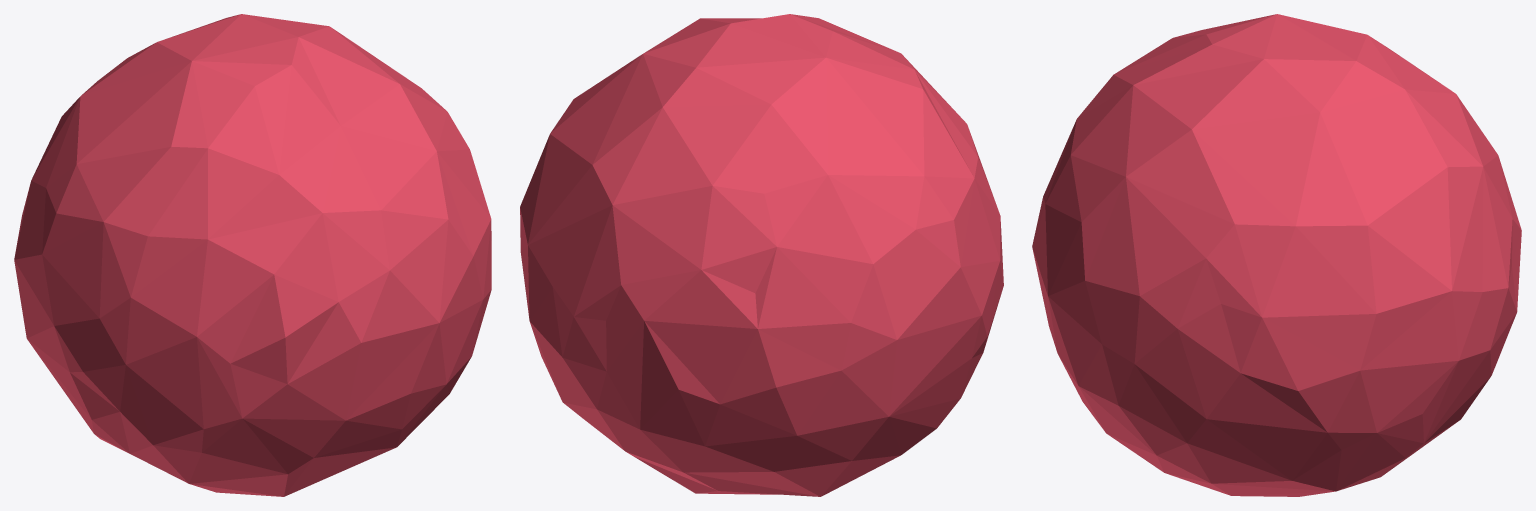
The model's file is dry_planet4.fbx.
3 views of the same model, side by side, from view 1: azimuth 30°, elevation 25°; view 2: azimuth 150°, elevation 25°; view 3: azimuth 270°, elevation 25° (orthographic).
Visible parts, largest first — view 1: dry_planet4; view 2: dry_planet4; view 3: dry_planet4.
Part boxes in pixels (x1,y1,x2,y2): dry_planet4: [14, 14, 491, 496]; dry_planet4: [520, 14, 1003, 496]; dry_planet4: [1032, 14, 1521, 496].
Bounding box in the file's own units: 191 × 189 × 191.
